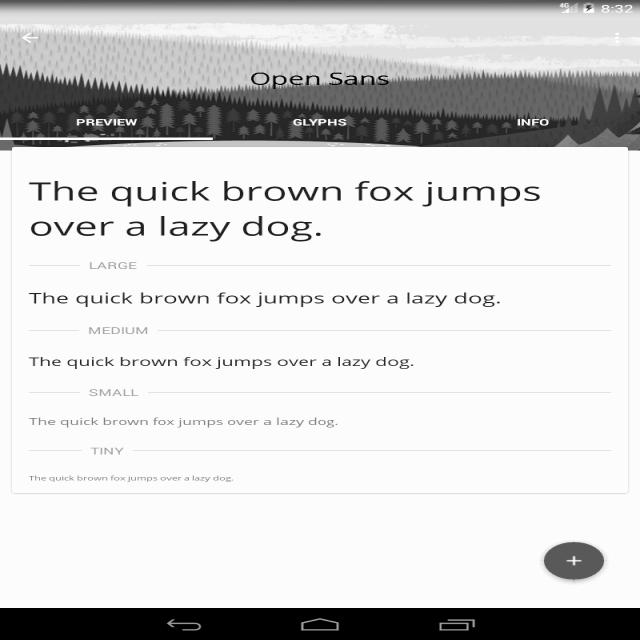ImageButton: (9, 30, 82, 60), (594, 28, 634, 52)
TextView: (29, 174, 538, 241), (26, 285, 502, 309), (34, 412, 353, 435), (19, 355, 426, 373), (34, 467, 248, 483), (250, 70, 396, 92), (298, 113, 372, 139), (79, 108, 147, 126), (77, 323, 151, 339), (68, 439, 141, 455), (519, 118, 569, 136), (84, 260, 146, 273), (79, 388, 145, 393)
